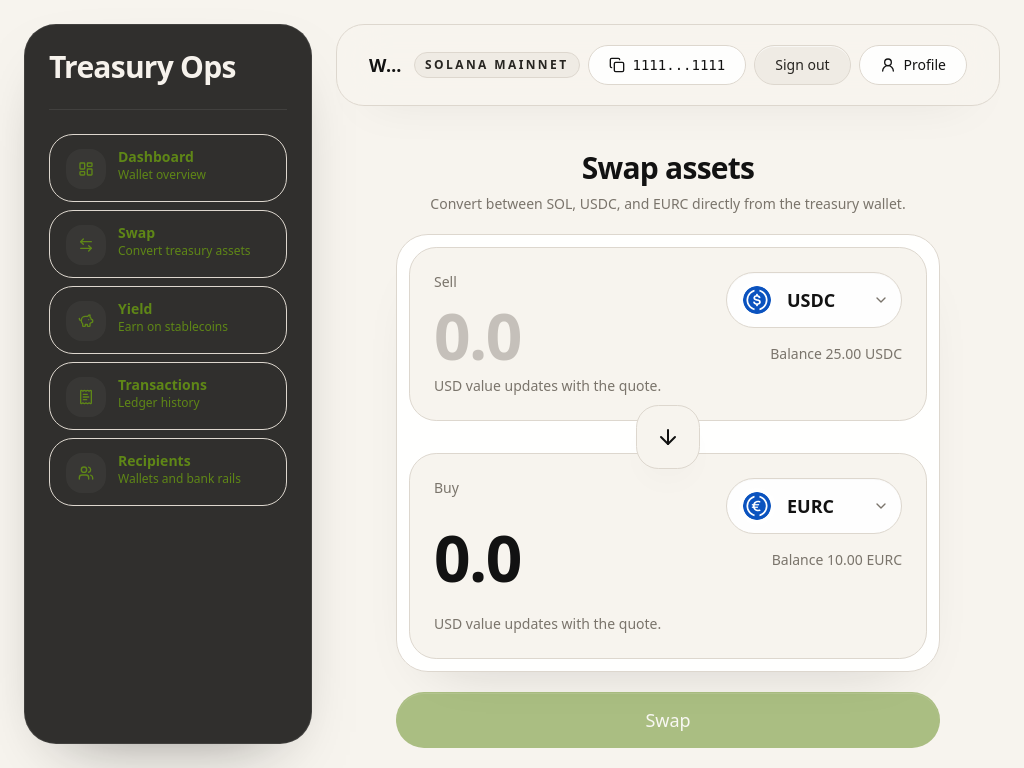
SwapPage › refreshes stale quotes before signing and executing
Type "10" into the field with placeholder "0.0". click: (572, 336)
box: [434,304,710,368]
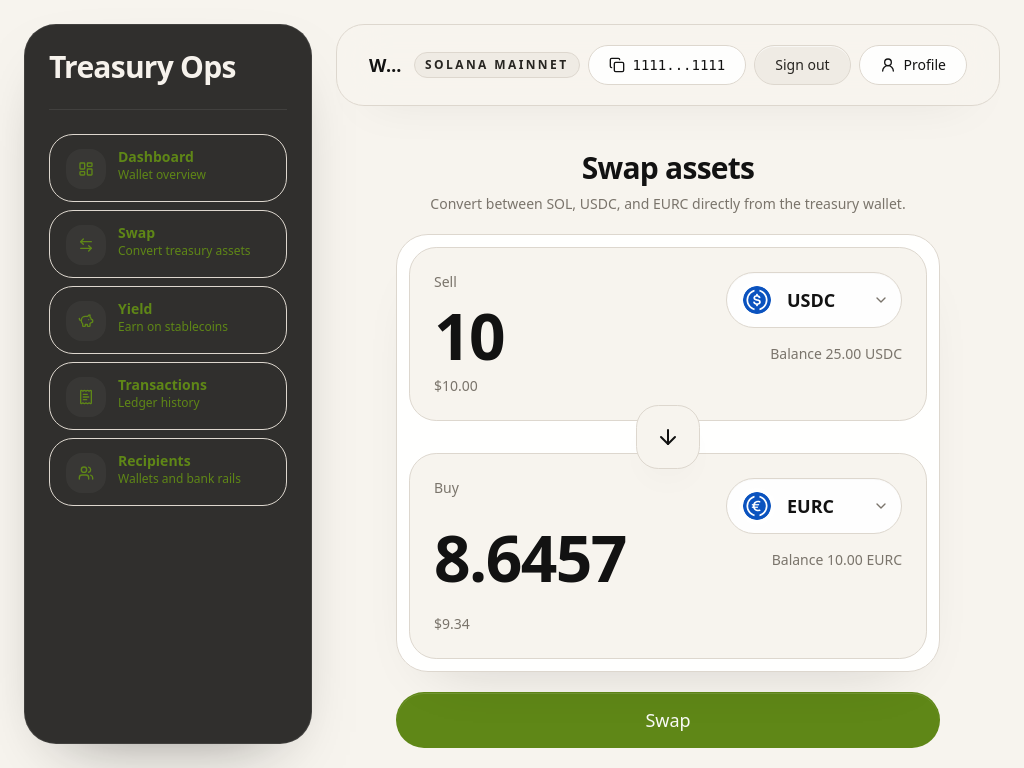
Expected: the text "8.6457" is shown, [434,514,626,601]
Click the button "Swap". click: (668, 720)
box: [396,692,940,748]
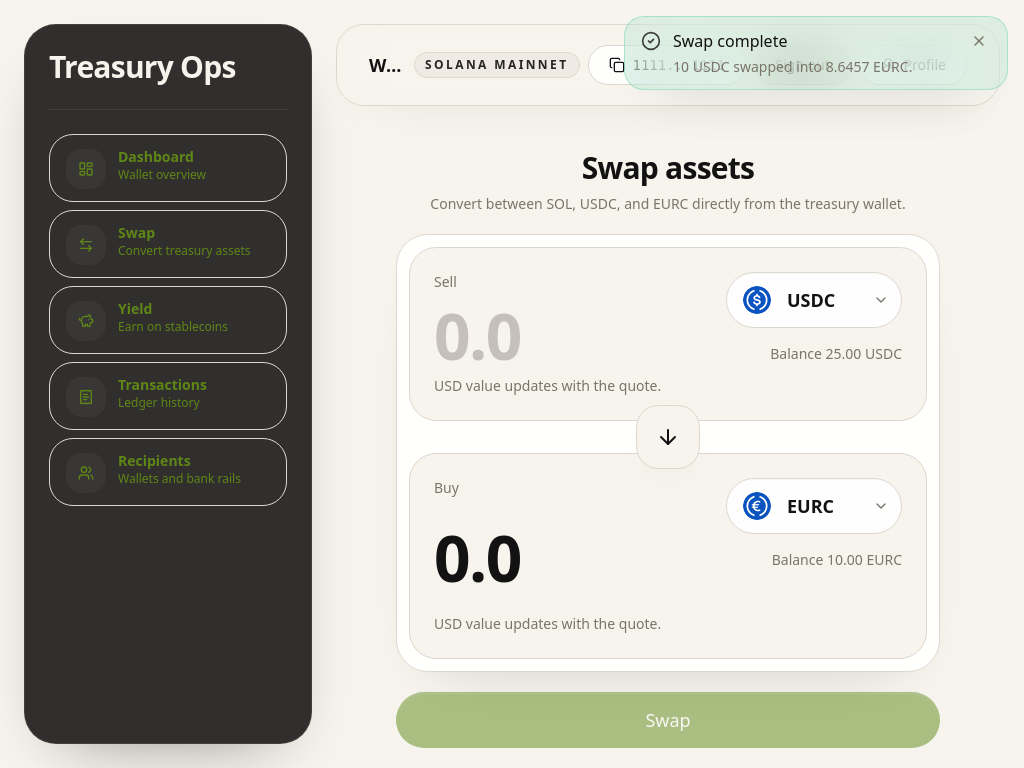
Expected: the text "Swap complete" is shown, [673,30,788,52]
